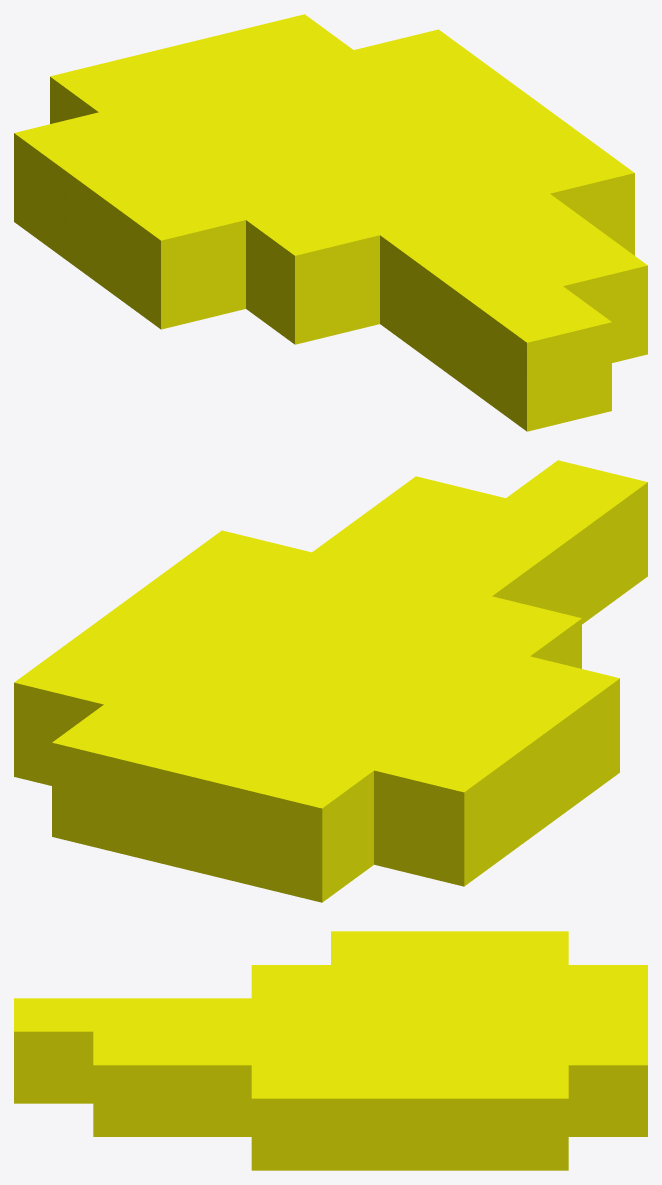
Rendered from voxel-village-pork-chop.glb.
The picture shows the model from 3 angles, top to bottom: view 1: azimuth 30°, elevation 25°; view 2: azimuth 150°, elevation 25°; view 3: azimuth 270°, elevation 25°; orthographic projection. The views are drawn at different scales.
Visible parts, largest first — view 1: VS_Villagers_PorkChop; view 2: VS_Villagers_PorkChop; view 3: VS_Villagers_PorkChop.
Part boxes in pixels (x1=…): VS_Villagers_PorkChop: x1=14, y1=14, x2=647, y2=431; VS_Villagers_PorkChop: x1=14, y1=460, x2=647, y2=902; VS_Villagers_PorkChop: x1=14, y1=931, x2=647, y2=1170.
Size of the model in its own units: 0.5 by 0.1 by 0.8.
